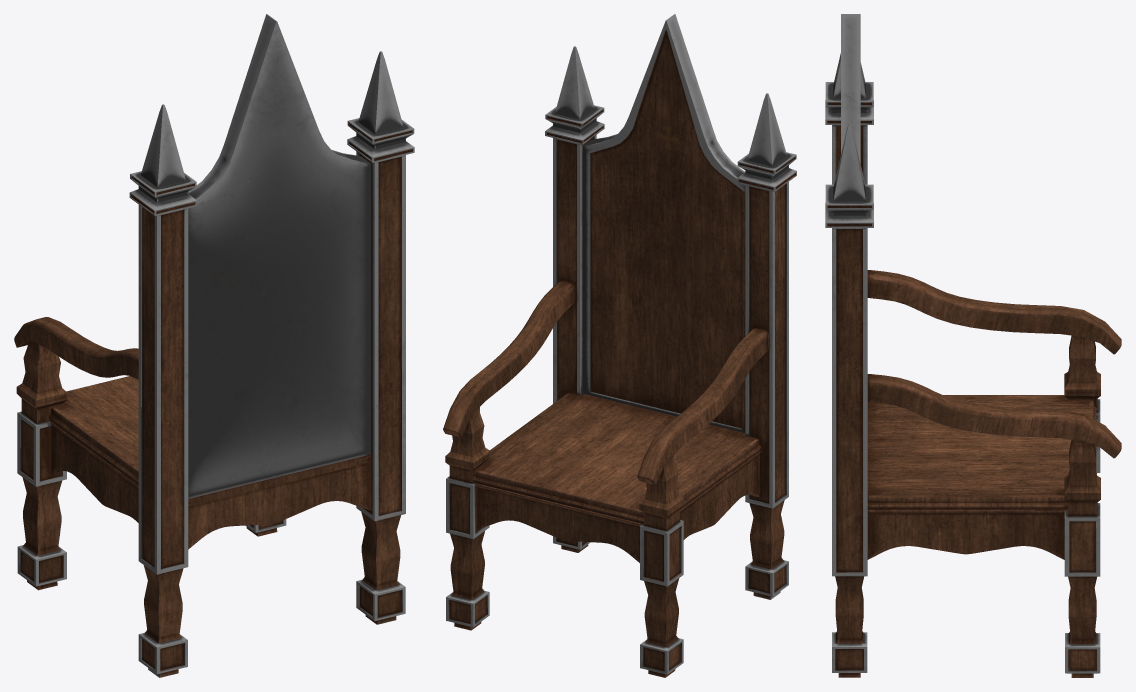
Rendered from medieval-chair.glb.
3 views of the same model, side by side, from view 1: azimuth 30°, elevation 25°; view 2: azimuth 150°, elevation 25°; view 3: azimuth 270°, elevation 25° (orthographic). The views are drawn at different scales.
Visible parts, largest first — view 1: Chair; view 2: Chair; view 3: Chair.
Part boxes in pixels (x1,y1,x2,y2): Chair: (14,14,414,677); Chair: (443,14,796,677); Chair: (825,14,1121,677).
Size of the model in its own units: 0.8681 by 2 by 0.8838.
1 material, 1 textured.
